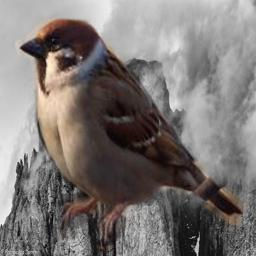Sparrow: (15, 15, 243, 253)
